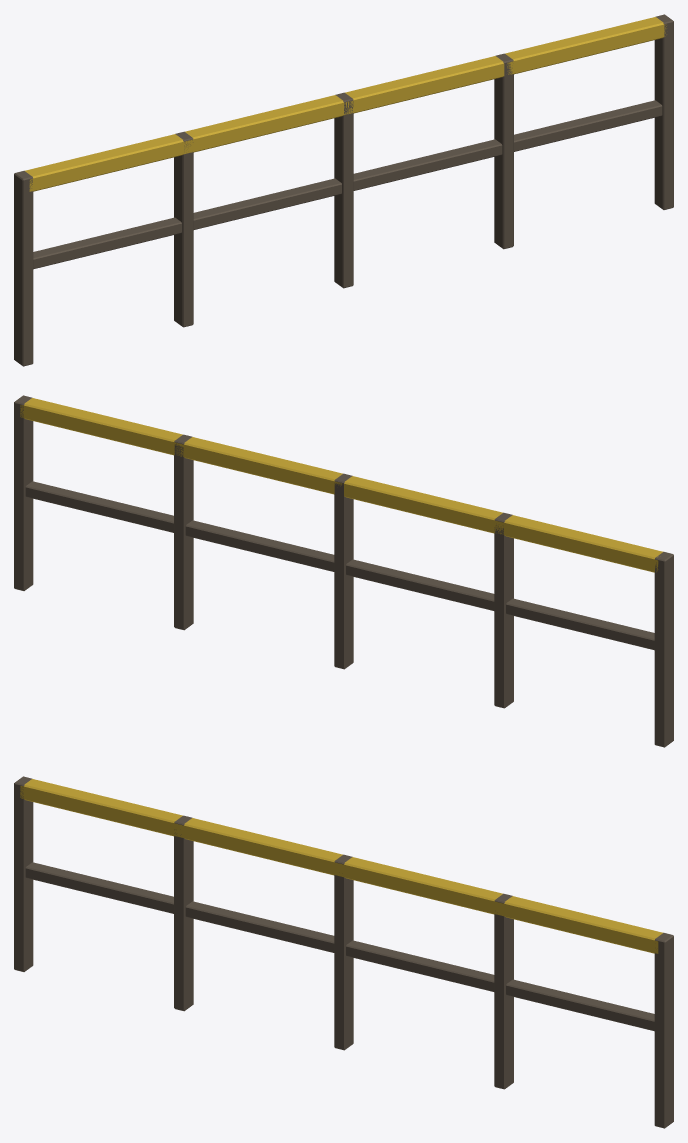
Rendered from MC_RAIL_4_LODs.fbx.
3 renders of one model, top to bottom at view 1: azimuth 30°, elevation 25°; view 2: azimuth 150°, elevation 25°; view 3: azimuth 330°, elevation 25°, orthographic.
Visible parts, largest first — view 1: MC_RAIL_4_LOD0; view 2: MC_RAIL_4_LOD0; view 3: MC_RAIL_4_LOD0.
Boxes of the visible parts, x1=… form: MC_RAIL_4_LOD0: x1=14, y1=14, x2=673, y2=366; MC_RAIL_4_LOD0: x1=14, y1=395, x2=673, y2=747; MC_RAIL_4_LOD0: x1=14, y1=776, x2=673, y2=1128.
Size of what is drawn, in the model's own units: 4 by 1.1 by 0.1.
